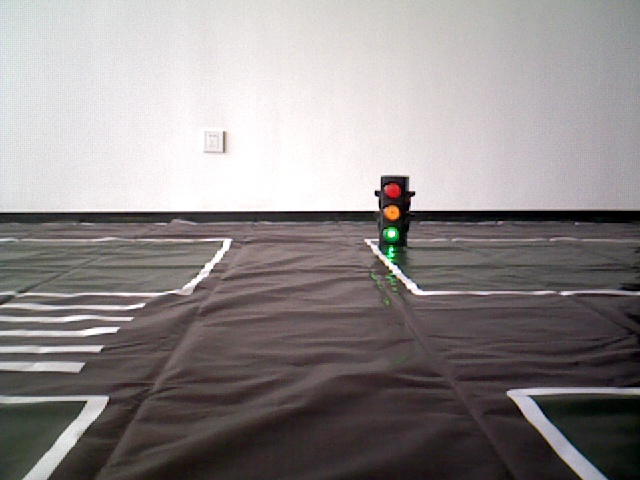green: (379, 178, 404, 242)
